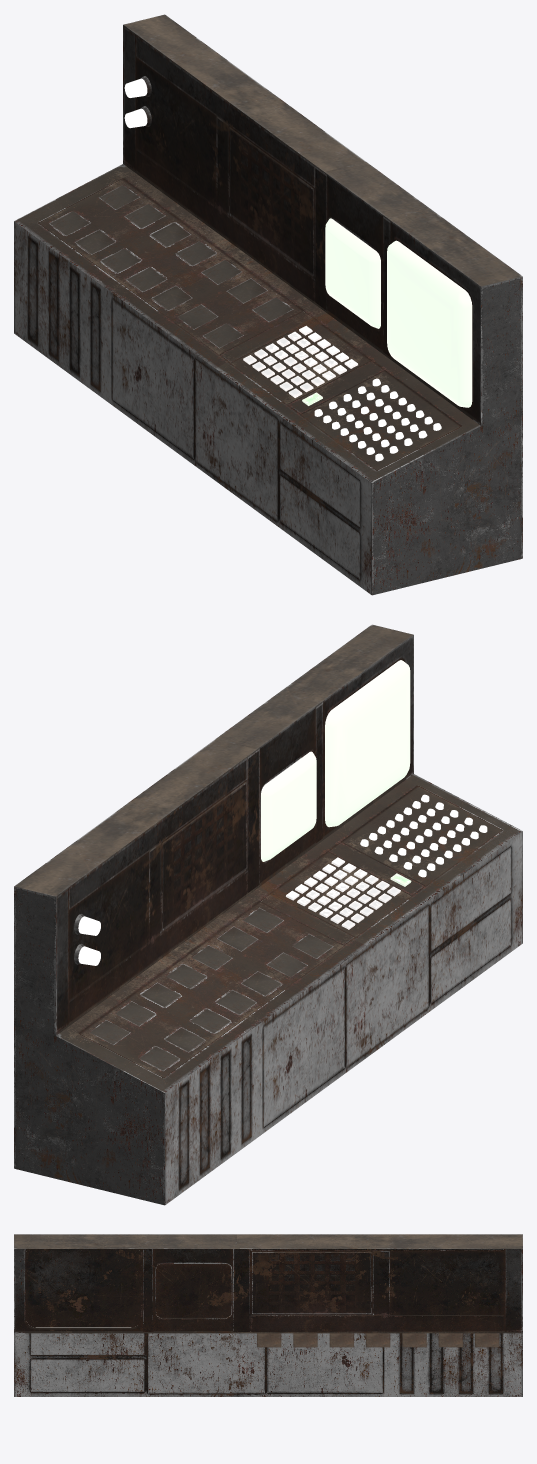
File: SM_Console_Laboratory.fbx
The picture shows the model from 3 angles, top to bottom: view 1: azimuth 30°, elevation 25°; view 2: azimuth 150°, elevation 25°; view 3: azimuth 270°, elevation 25°; orthographic projection. The views are drawn at different scales.
Visible parts, largest first — view 1: SM_Console_Laboratory, SM_Console_LaboratoryMonitor_Big, SM_Console_Laboratory_Monitor; view 2: SM_Console_Laboratory, SM_Console_LaboratoryMonitor_Big, SM_Console_Laboratory_Monitor; view 3: SM_Console_Laboratory.
Boxes of the visible parts, left/top/right/bottom form: SM_Console_Laboratory: left=14, top=14, right=522, bottom=595; SM_Console_LaboratoryMonitor_Big: left=387, top=240, right=472, bottom=407; SM_Console_Laboratory_Monitor: left=325, top=218, right=380, bottom=328; SM_Console_Laboratory: left=14, top=624, right=522, bottom=1205; SM_Console_LaboratoryMonitor_Big: left=325, top=660, right=410, bottom=827; SM_Console_Laboratory_Monitor: left=261, top=751, right=316, bottom=861; SM_Console_Laboratory: left=14, top=1234, right=522, bottom=1396.
Size of the model in its own units: 1.12 by 2 by 4.6.
